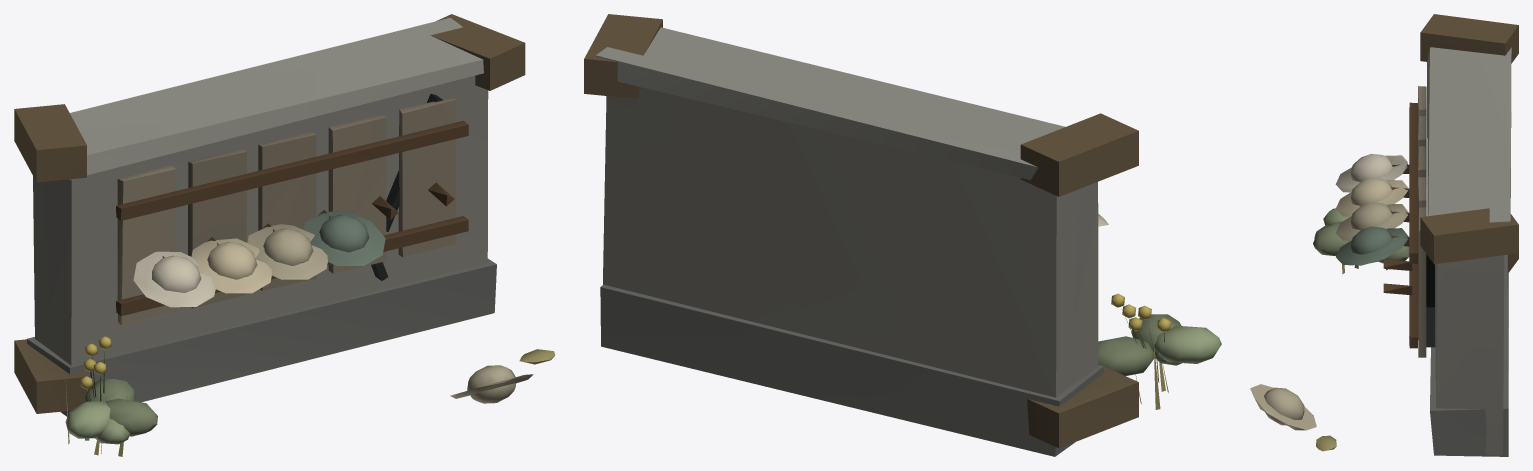
File: hardhat_rack_b_lod1.glb
The picture shows the model from 3 angles, left to right: view 1: azimuth 30°, elevation 25°; view 2: azimuth 150°, elevation 25°; view 3: azimuth 270°, elevation 25°; orthographic projection. The views are drawn at different scales.
Parts seen in each view (by area): view 1: Surface.001; view 2: Surface.001; view 3: Surface.001.
Boxes of the visible parts, box(x1,y1,x2,y2) form: Surface.001: box(14, 14, 555, 456); Surface.001: box(584, 14, 1221, 456); Surface.001: box(1250, 14, 1518, 456).
Bounding box in the file's own units: 4.92 × 2.61 × 2.53.
